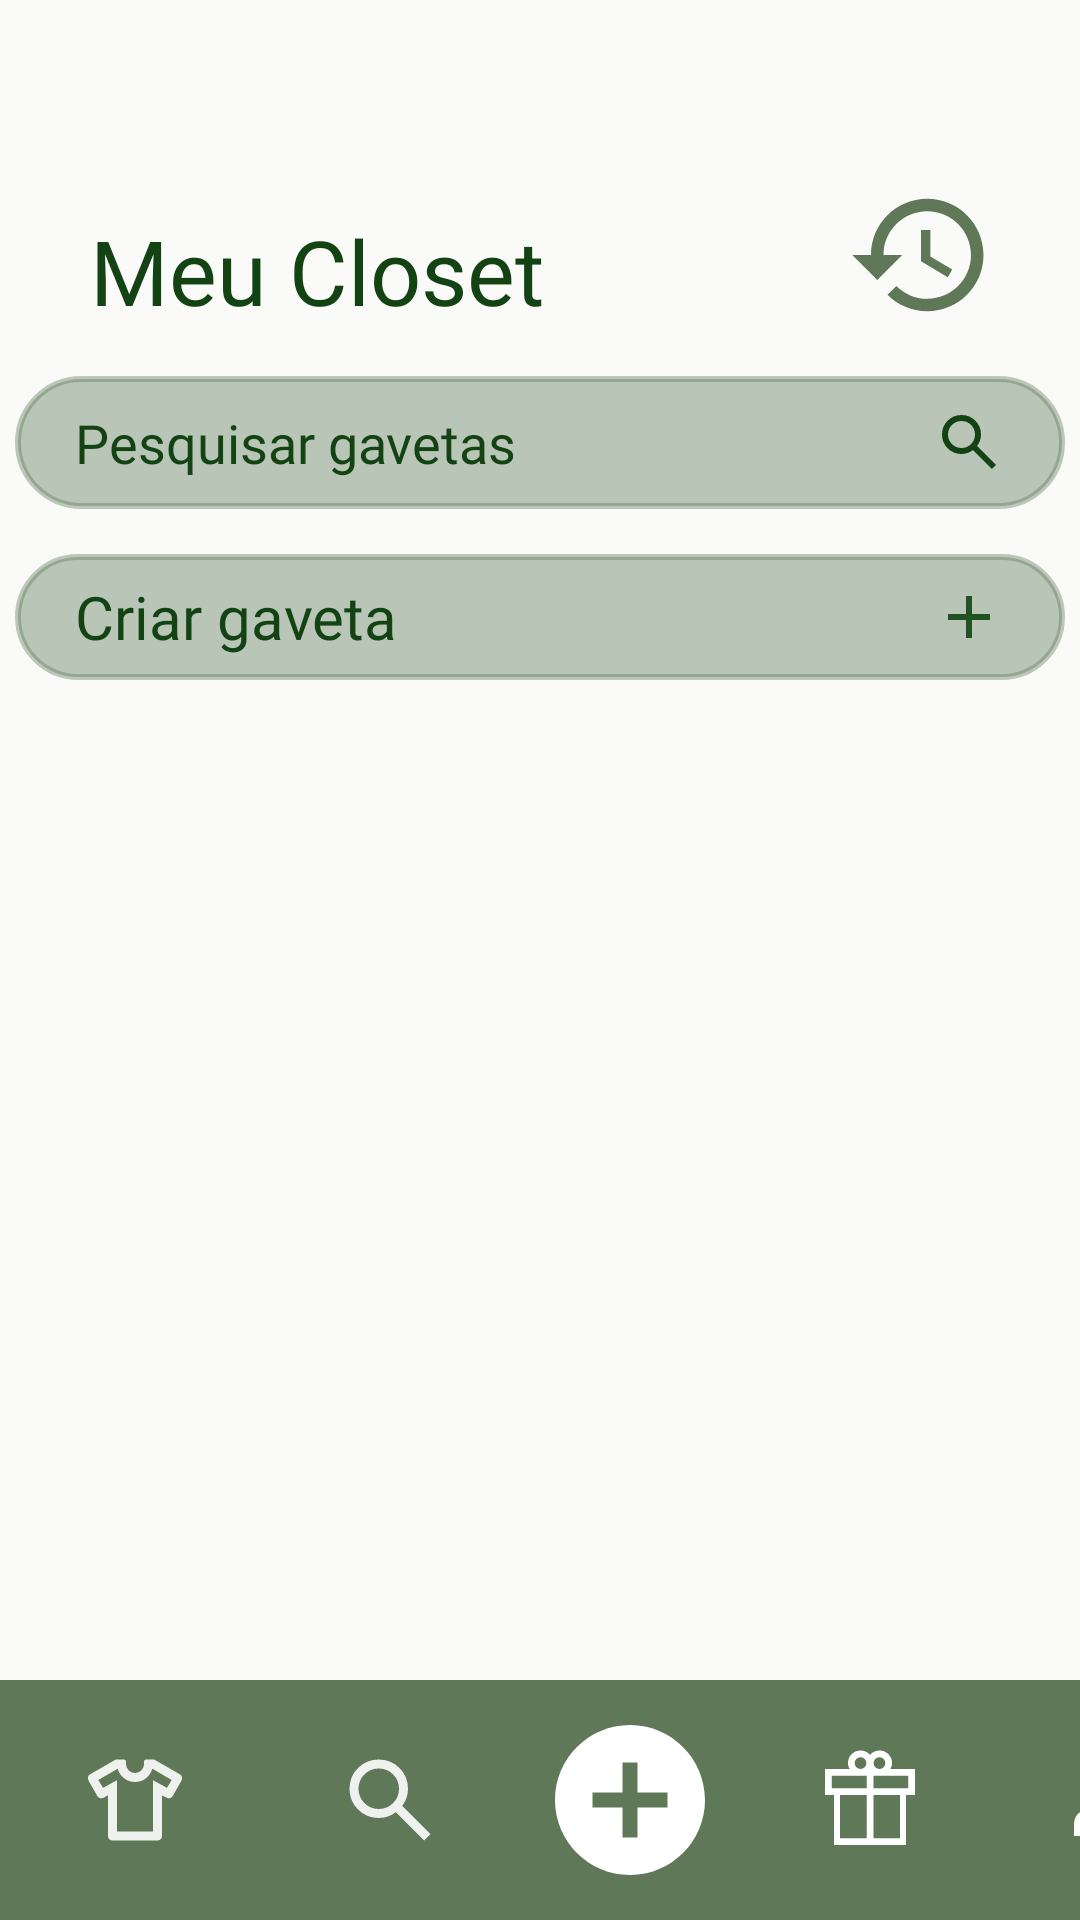

Named icons in this screenshot (1080w x 1920h) and their bounding boxes, region(x1, y1, x2, y2):
add circle: region(555, 1725, 705, 1875)
history: region(852, 198, 984, 312)
iconedoacao: region(825, 1750, 915, 1845)
search branco: region(349, 1759, 431, 1841)
